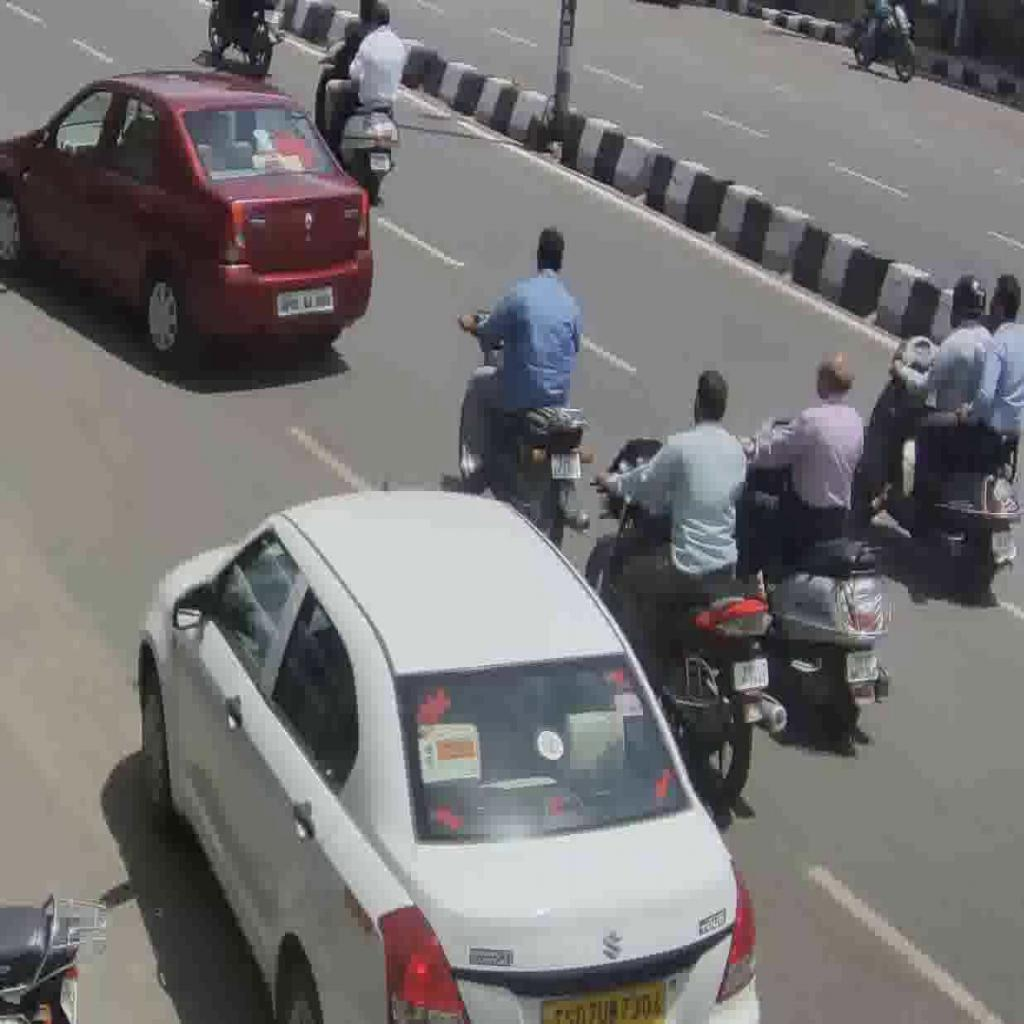helmet: (583, 433, 787, 812), (742, 414, 894, 750), (862, 333, 1024, 605), (456, 303, 593, 549), (314, 37, 400, 204)
